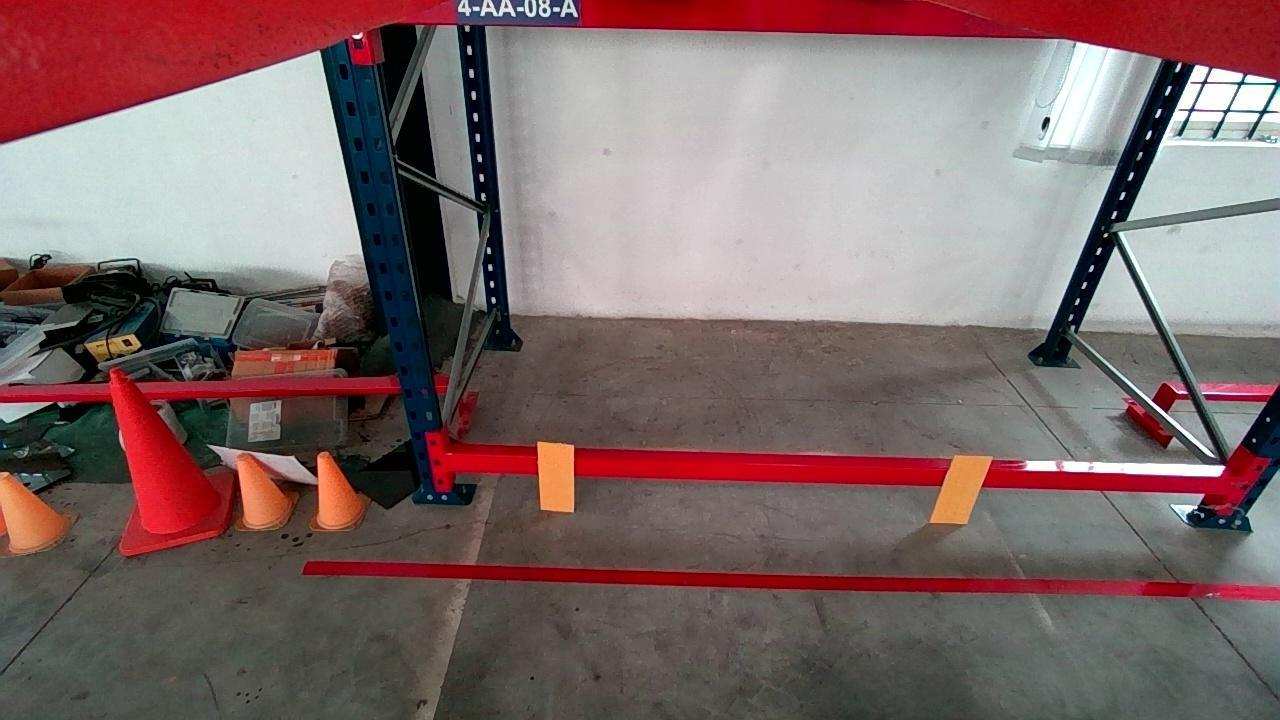h_rack: (448, 449, 1236, 494), (384, 0, 1048, 36)
orange_strip: (931, 456, 991, 525), (536, 441, 576, 512)
red_line: (303, 558, 1280, 601)
